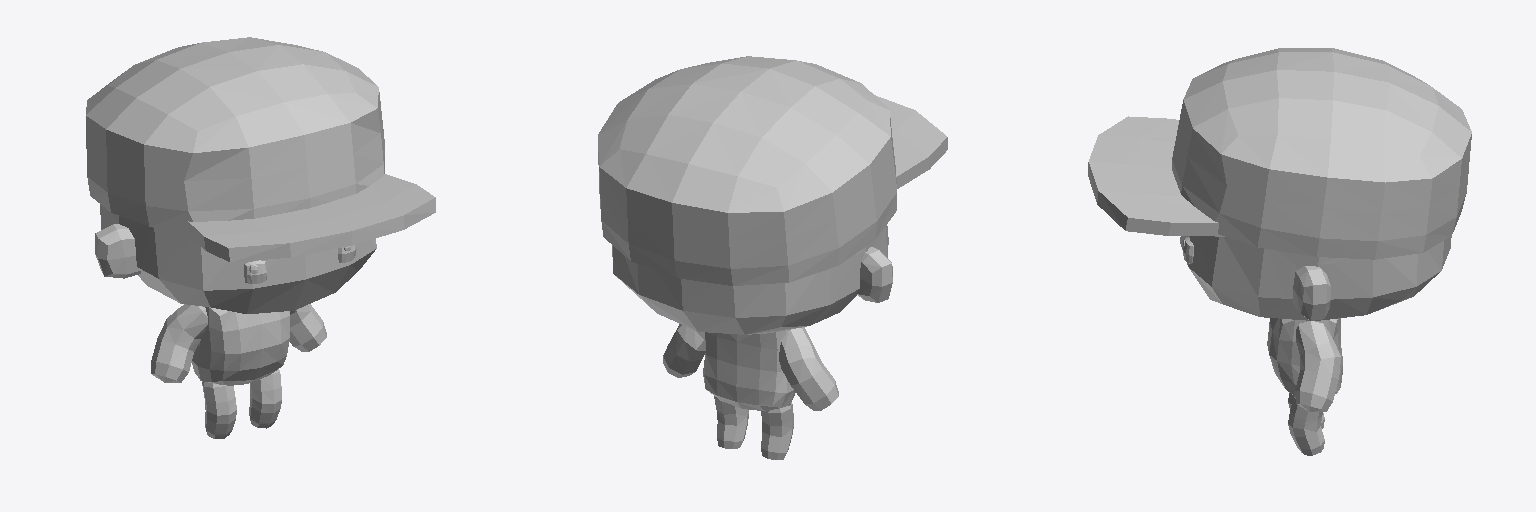
File: idle_0036.obj
3 renders of one model, left to right at view 1: azimuth 30°, elevation 25°; view 2: azimuth 150°, elevation 25°; view 3: azimuth 270°, elevation 25°, orthographic.
Parts seen in each view (by area): view 1: Object_41, Object_42, Object_36, Object_44, Object_38; view 2: Object_41, Object_44, Object_36, Object_42; view 3: Object_41, Object_36, Object_42, Object_44.
Part boxes in pixels (x1,y1,x2,y2): Object_41: (86, 37, 384, 232); Object_42: (184, 108, 435, 262); Object_36: (95, 204, 376, 313); Object_44: (151, 304, 326, 438); Object_38: (244, 245, 356, 283); Object_41: (598, 56, 896, 285); Object_44: (663, 324, 838, 459); Object_36: (612, 225, 892, 334); Object_42: (875, 95, 947, 188); Object_41: (1183, 48, 1471, 259); Object_36: (1180, 236, 1451, 320); Object_42: (1088, 100, 1226, 236); Object_44: (1267, 318, 1342, 455).
Size of the model in its own units: 0.9691 by 1.22 by 1.14.